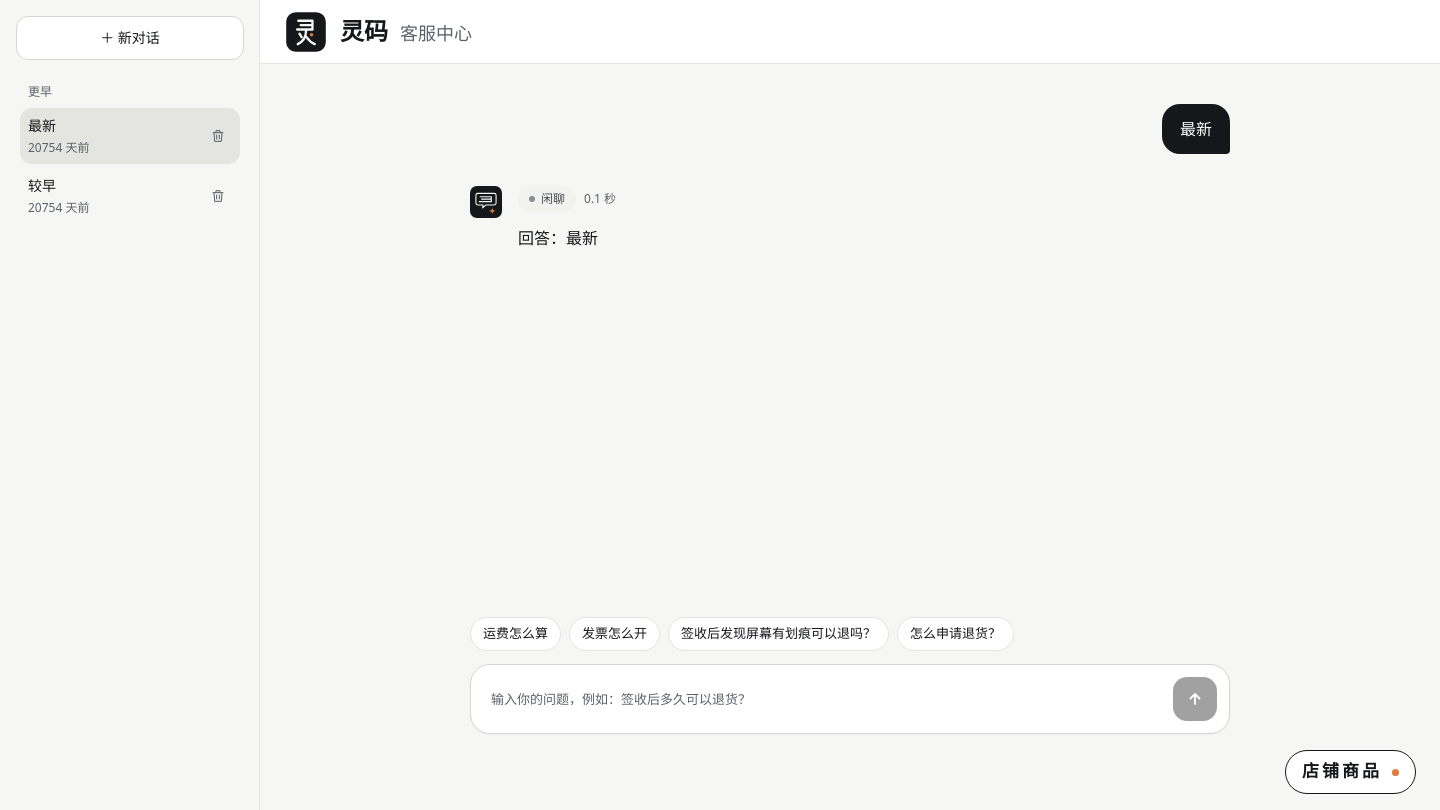
it: conversation history integration › aborts an in-flight stream on switch and never saves or restores the unfinished turn
Type "未完成" into the text box at point(826, 699), box [491,677,1161,721]
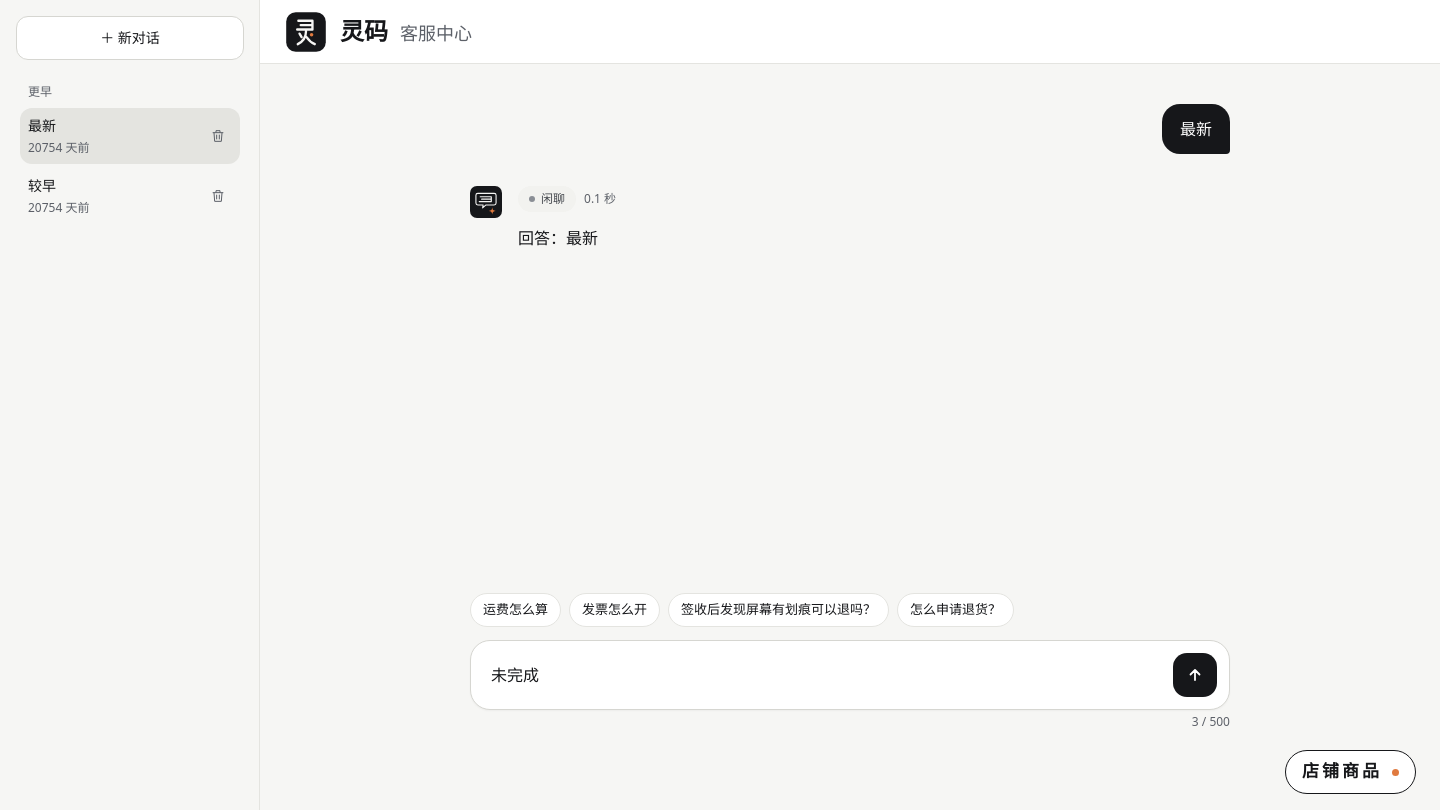
Click the button named "发送" at point(1195, 675), box [1173,653,1217,697]
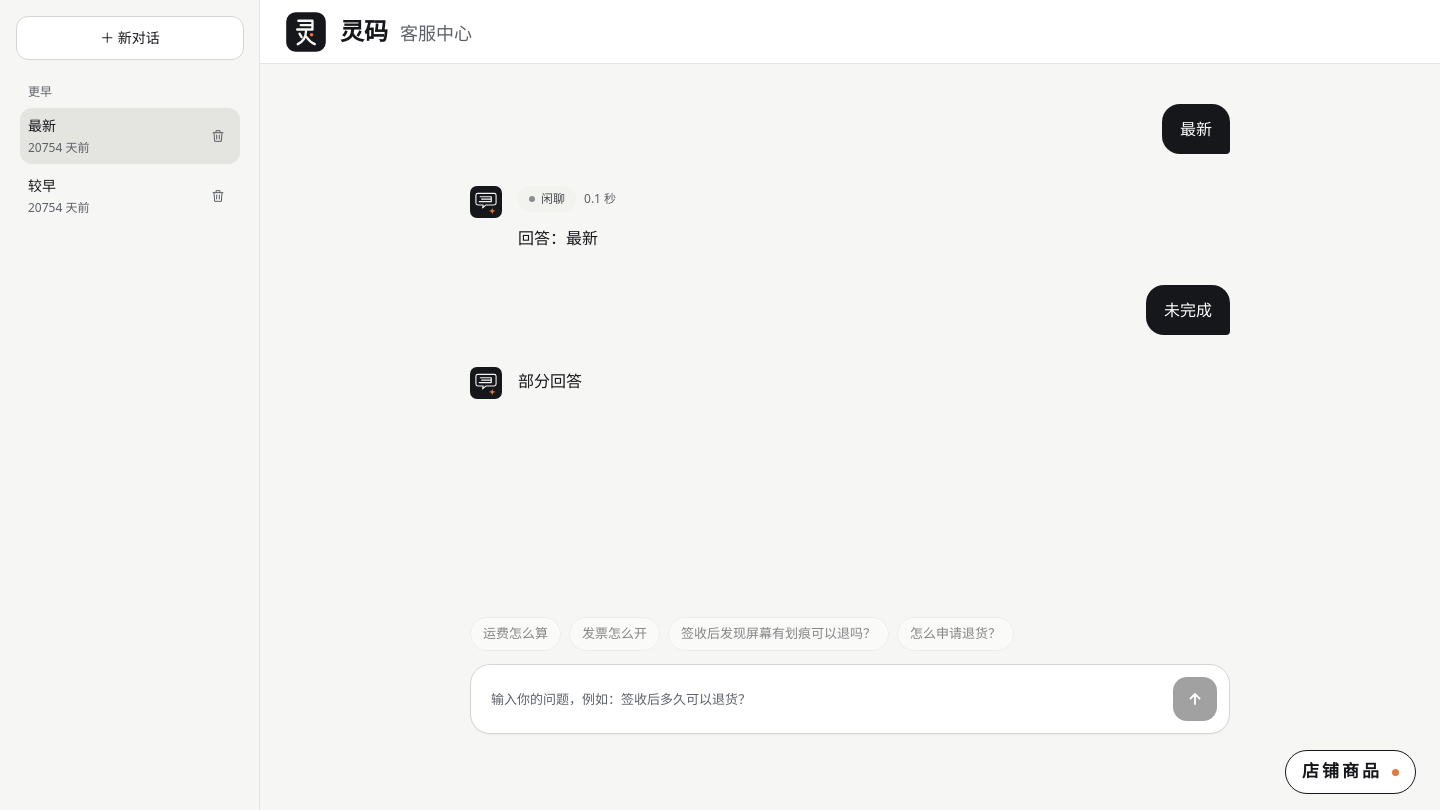
Click the button with aria-label "打开对话：较早" at point(108, 196), box [20,168,196,224]
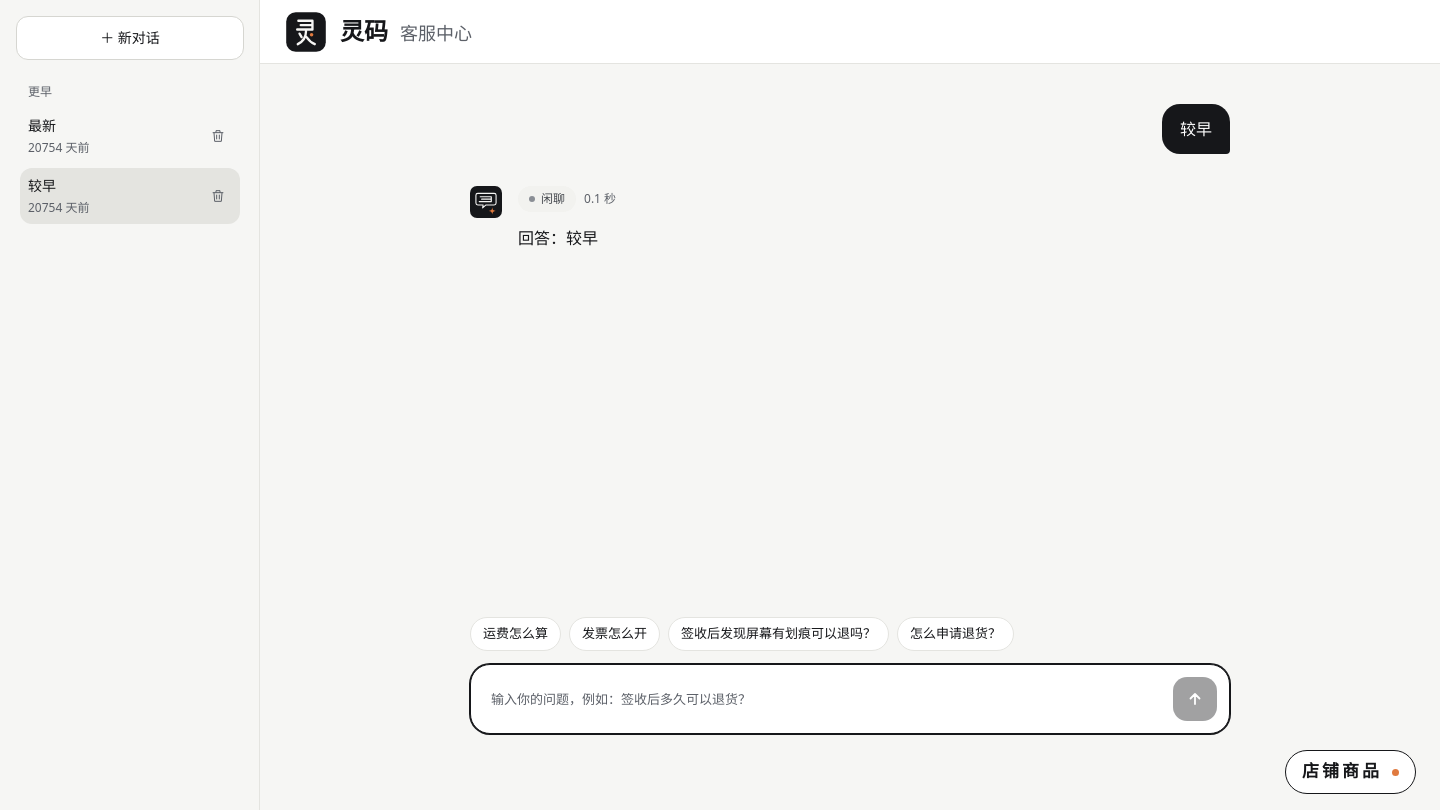
Expected: the text box is enabled, [491,677,1161,721]
Expected: the text "部分回答" is gone
Click the button with aria-label "打开对话：最新" at point(108, 136), box [20,108,196,164]
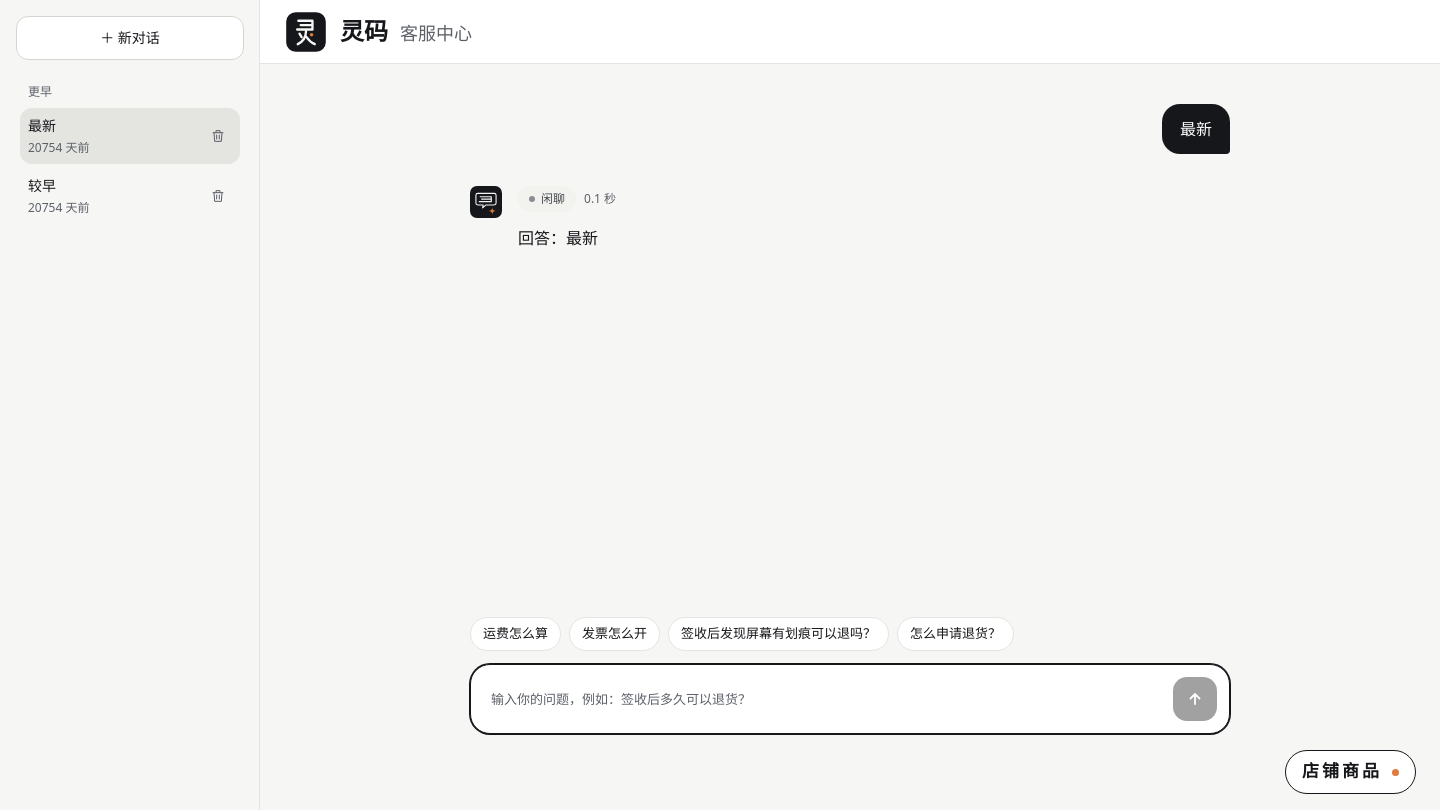
Expected: the text "回答：最新" is shown, [518,227,598,249]
